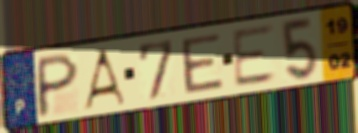5: (277, 14, 321, 82)
7: (136, 37, 175, 102)
A: (80, 46, 128, 111)
E: (230, 21, 278, 90), (179, 31, 226, 96)
P: (34, 51, 81, 119)
